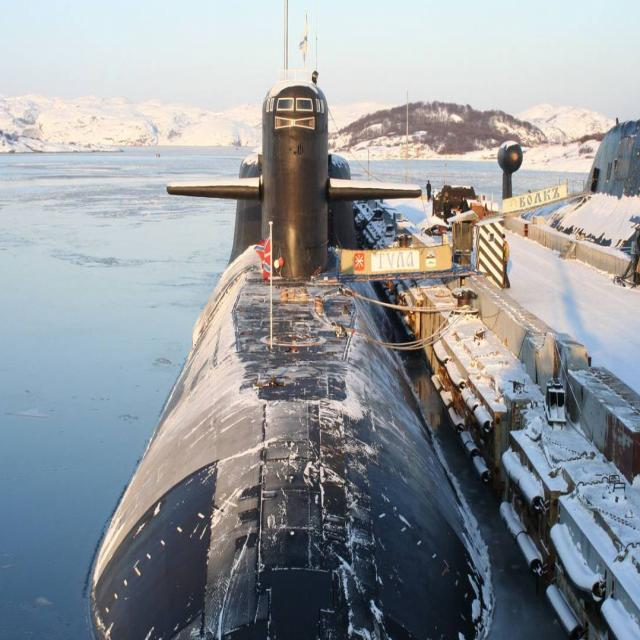submarine: (81, 1, 496, 640)
